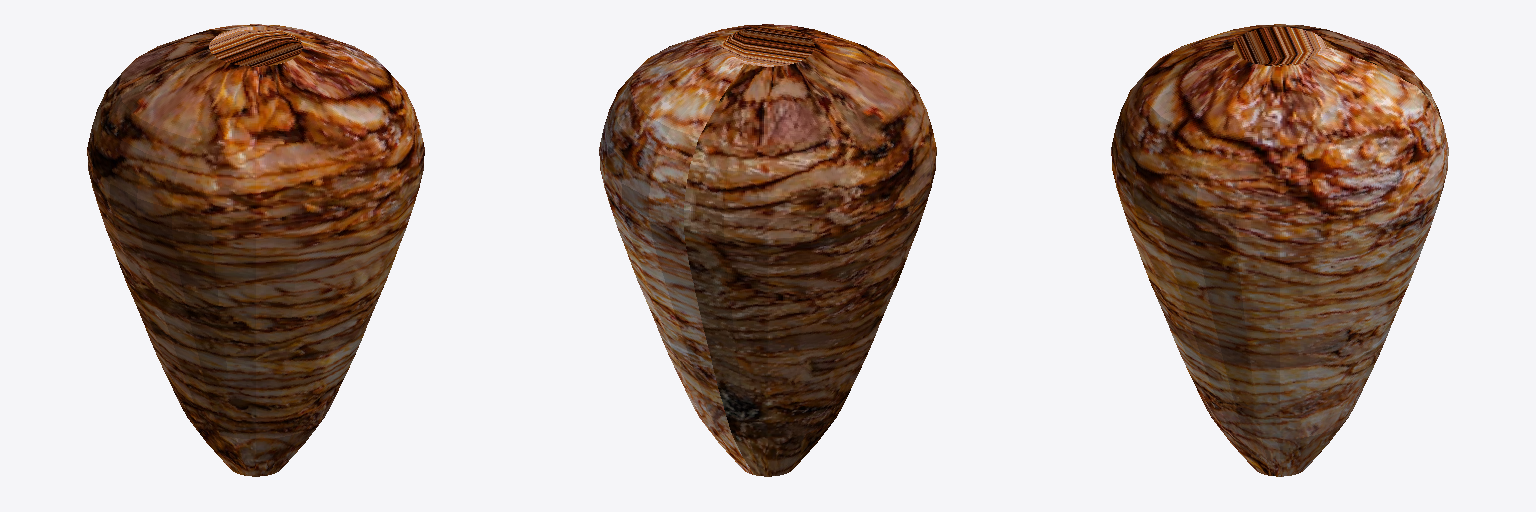
3 renders of one model, left to right at view 1: azimuth 30°, elevation 25°; view 2: azimuth 150°, elevation 25°; view 3: azimuth 270°, elevation 25°, orthographic.
Visible parts, largest first — view 1: trompo_carne; view 2: trompo_carne; view 3: trompo_carne.
Boxes of the visible parts, <box> form: trompo_carne: <box>87,24,424,476</box>; trompo_carne: <box>599,24,936,476</box>; trompo_carne: <box>1111,24,1448,476</box>.
Size of the model in its own units: 2.89 by 3.95 by 2.89.
1 materials, 1 textured.